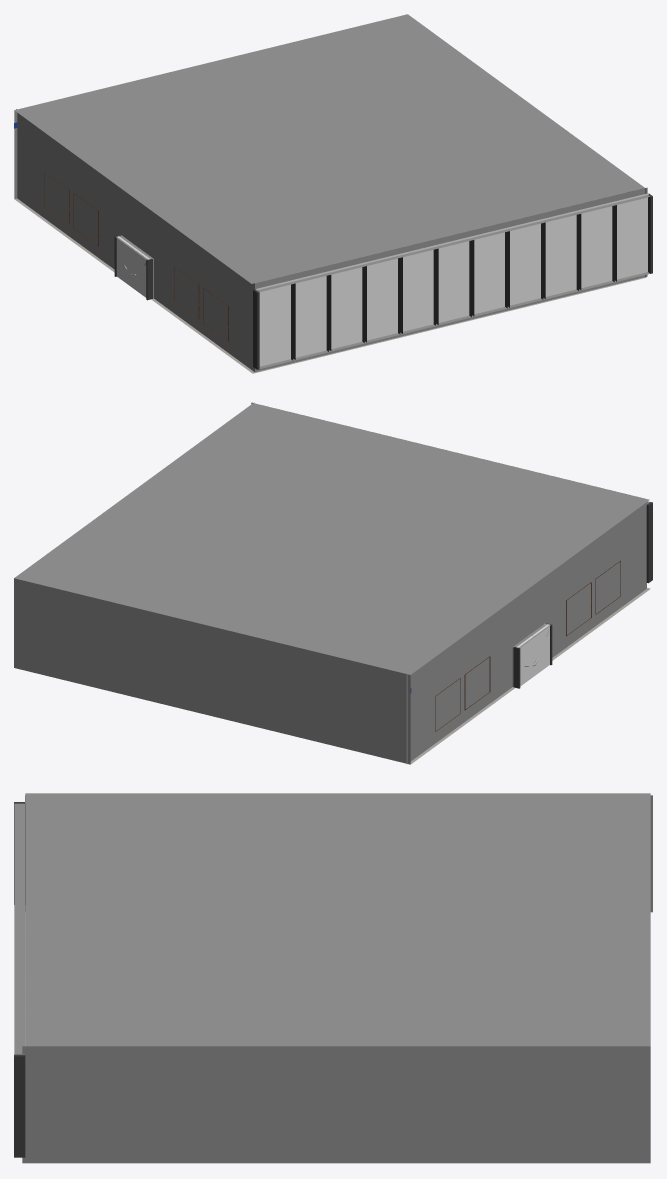
The model's file is chaoshi.FBX.
3 views of the same model, one above another, from view 1: azimuth 30°, elevation 25°; view 2: azimuth 150°, elevation 25°; view 3: azimuth 270°, elevation 25° (orthographic). The views are drawn at different scales.
Parts seen in each view (by area): view 1: tianhuaban, chaoshi, chuanghu, men2, men1; view 2: tianhuaban, chaoshi, men1, men2; view 3: tianhuaban, chaoshi.
Part boxes in pixels (x1=…): tianhuaban: x1=14, y1=14, x2=644, y2=283; chaoshi: x1=14, y1=109, x2=652, y2=373; chuanghu: x1=256, y1=193, x2=648, y2=366; men2: x1=117, y1=236, x2=134, y2=287; men1: x1=132, y1=247, x2=149, y2=297; tianhuaban: x1=14, y1=403, x2=649, y2=674; chaoshi: x1=14, y1=402, x2=652, y2=764; men1: x1=532, y1=624, x2=549, y2=675; men2: x1=516, y1=636, x2=534, y2=686; tianhuaban: x1=25, y1=793, x2=650, y2=1046; chaoshi: x1=14, y1=795, x2=652, y2=1163.
Size of the model in its own units: 3382 by 718 by 3543.
